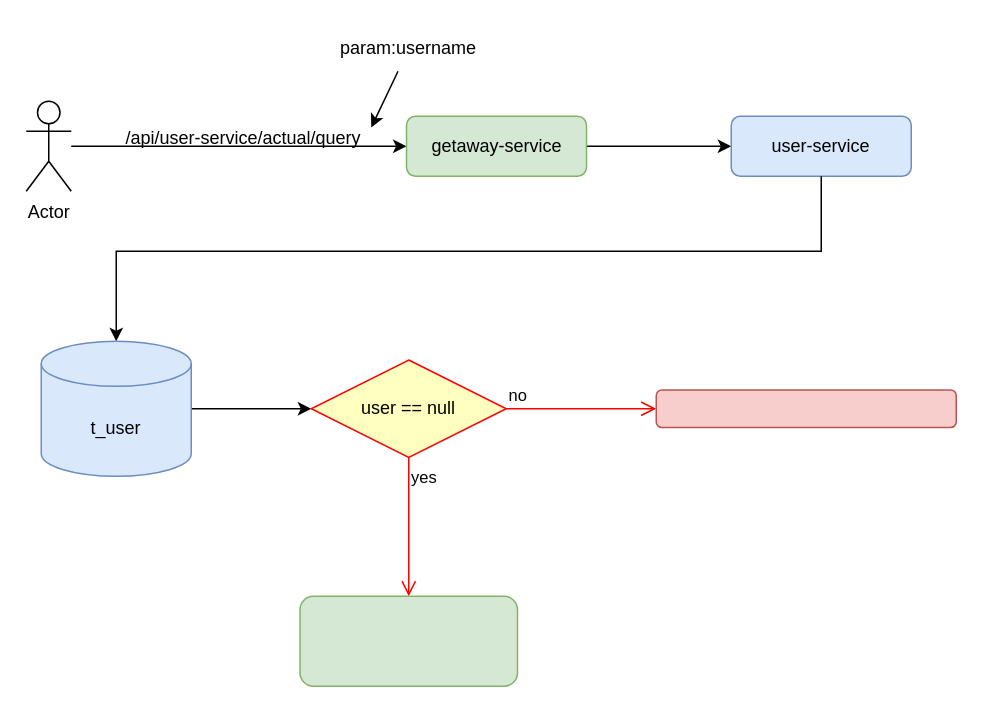
The diagram is 983 pixels wide and 713 high, and some of its shapes have lost their labels. The shapes that lost their labels are listed below. From the top down, each one's centre as x and y in pixels, then its label:
point (805, 408): 用户不存在，请检查用户名是否正确
point (408, 640): 把user数据拷贝到没有用jackson修饰的属性对象中返回
